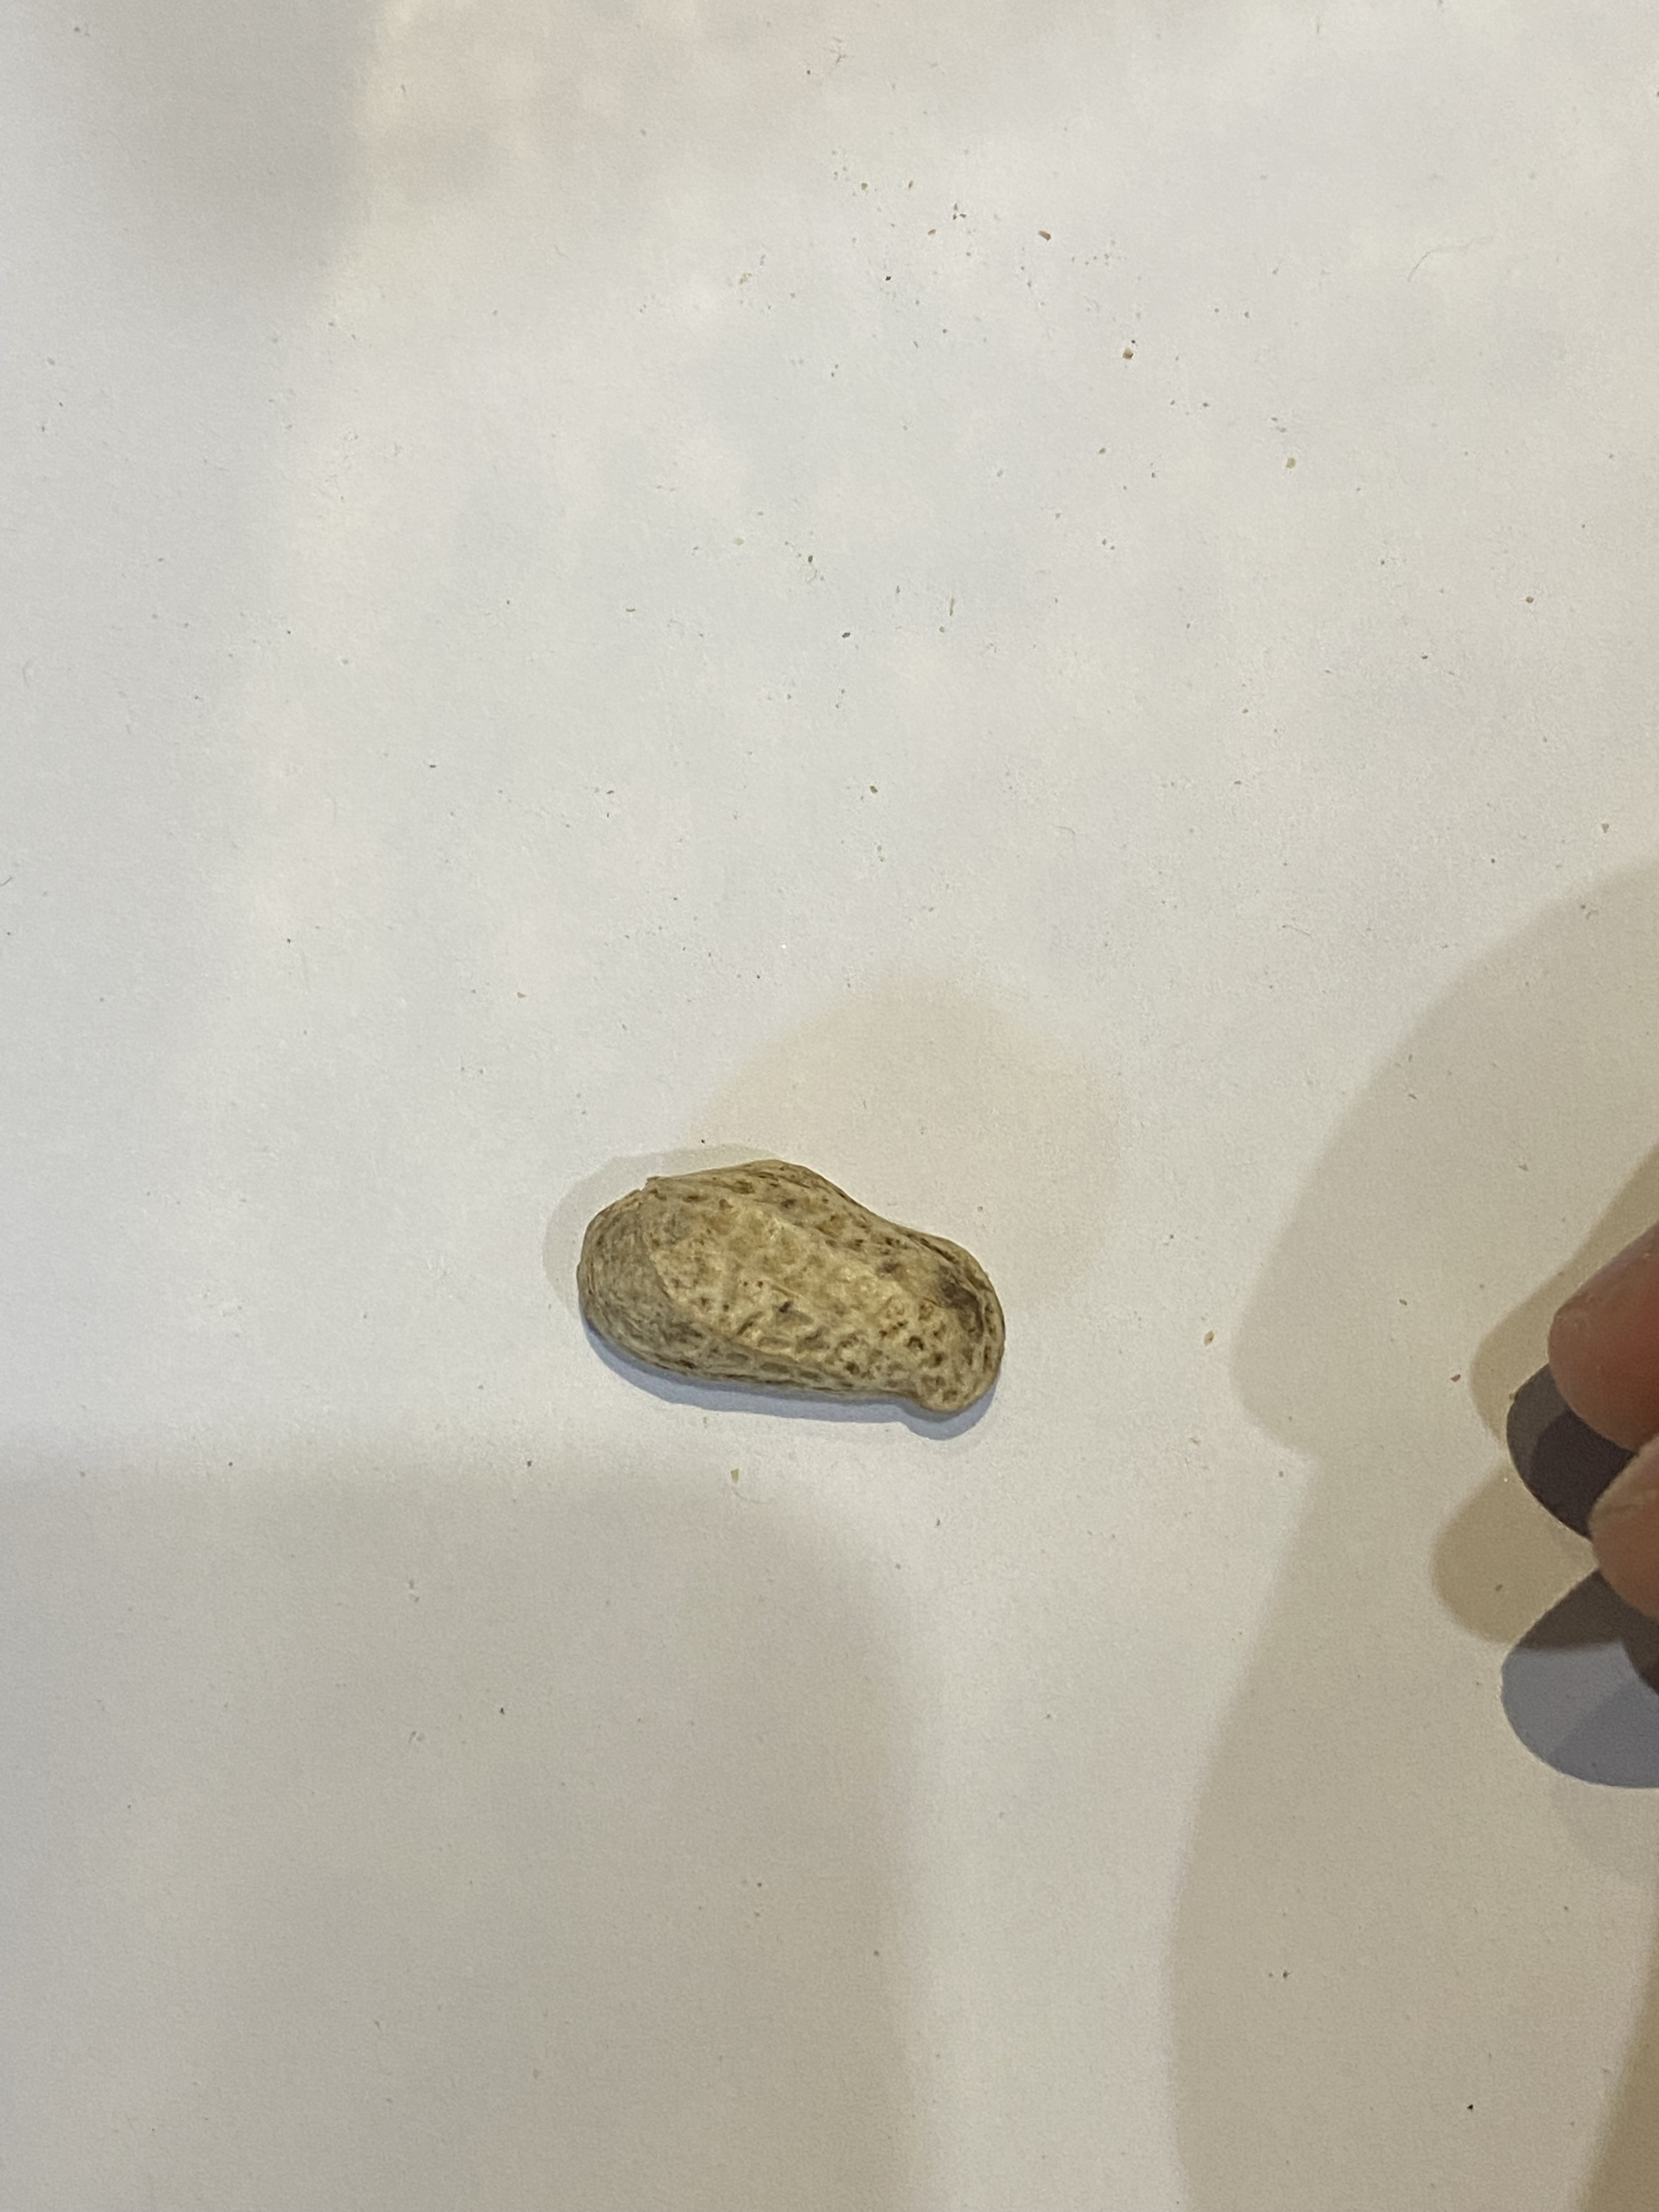kacang1: (538, 1148, 1040, 1421)
